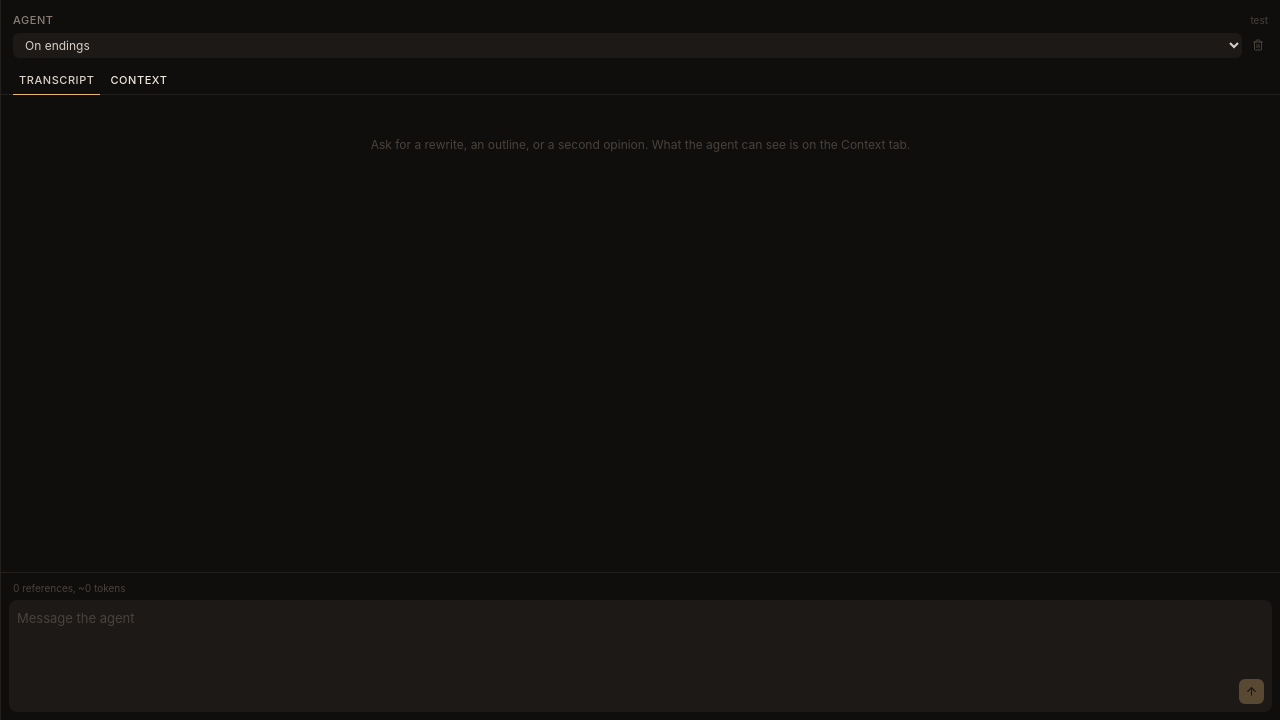
Test case: a proposed edit › should offer the replacement and the passage it replaces
Type "Tighten this" into the text box labelled "Message the agent" at (624, 656), box x1=17 y1=608 x2=1231 y2=704
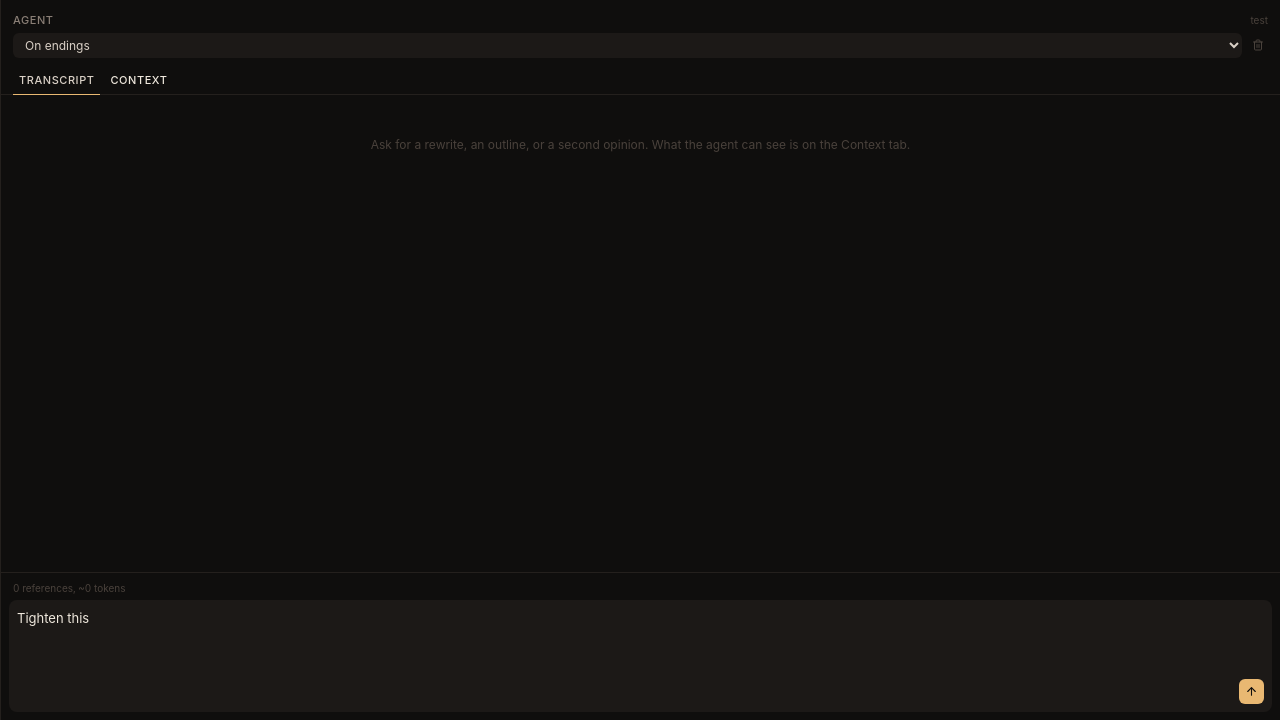
Click the button named "Send message" at (1252, 692), box x1=1239 y1=679 x2=1264 y2=704
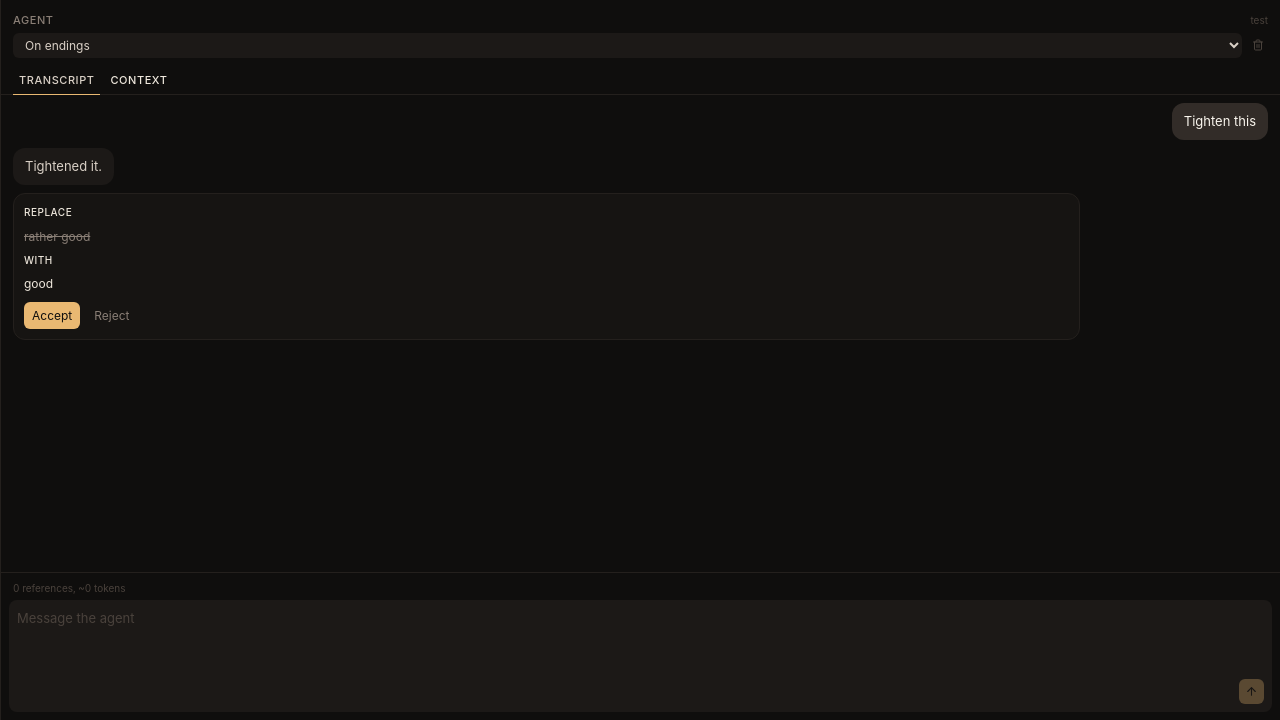
Expected: the text "rather good" is shown, x1=24 y1=228 x2=90 y2=244
Expected: the text "good" is shown, x1=24 y1=276 x2=53 y2=291
